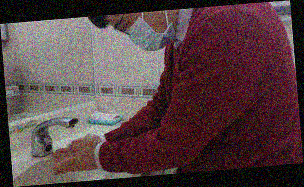with_mask: (111, 12, 178, 54)
